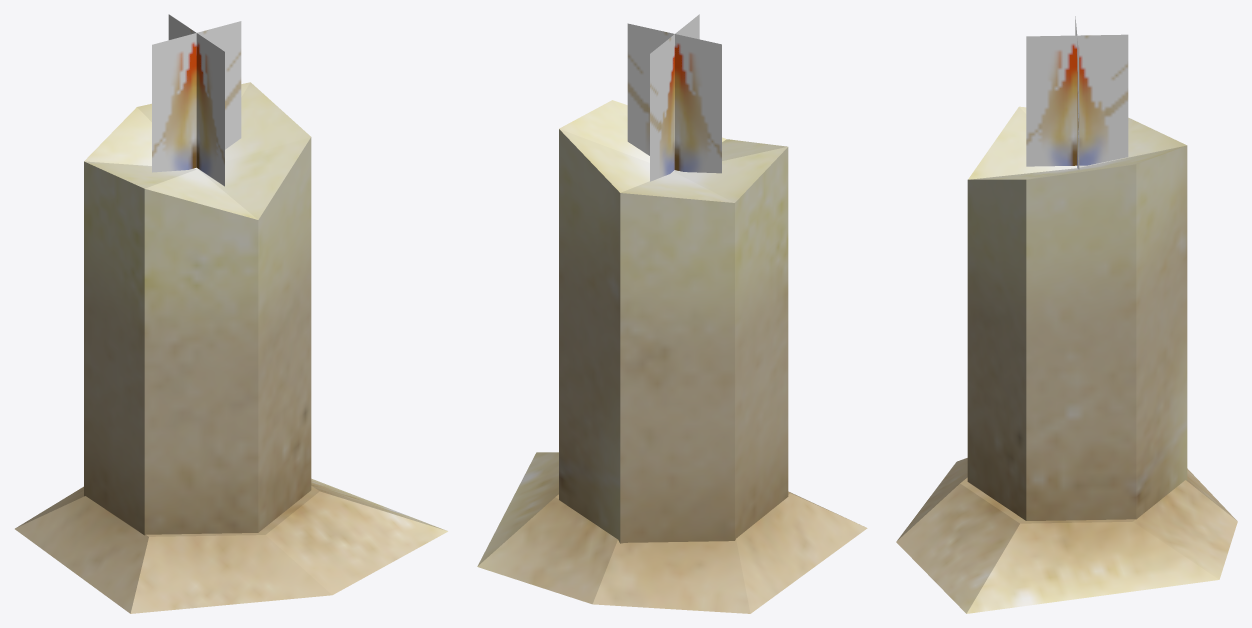
Rendered from Candle_2.fbx.
3 renders of one model, left to right at view 1: azimuth 30°, elevation 25°; view 2: azimuth 150°, elevation 25°; view 3: azimuth 270°, elevation 25°, orthographic. The views are drawn at different scales.
Parts seen in each view (by area): view 1: Candle_2; view 2: Candle_2; view 3: Candle_2.
Part boxes in pixels (<box>): Candle_2: <box>15,14,447,613</box>; Candle_2: <box>477,14,867,613</box>; Candle_2: <box>896,16,1237,613</box>.
Bounding box in the file's own units: 9.9 × 14.76 × 9.39.
